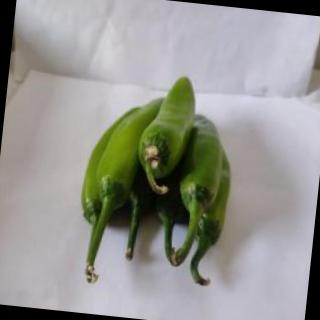Cabai Hijau: (132, 72, 201, 198)
